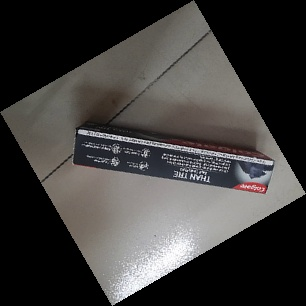Colgate Than: (71, 119, 276, 197)
